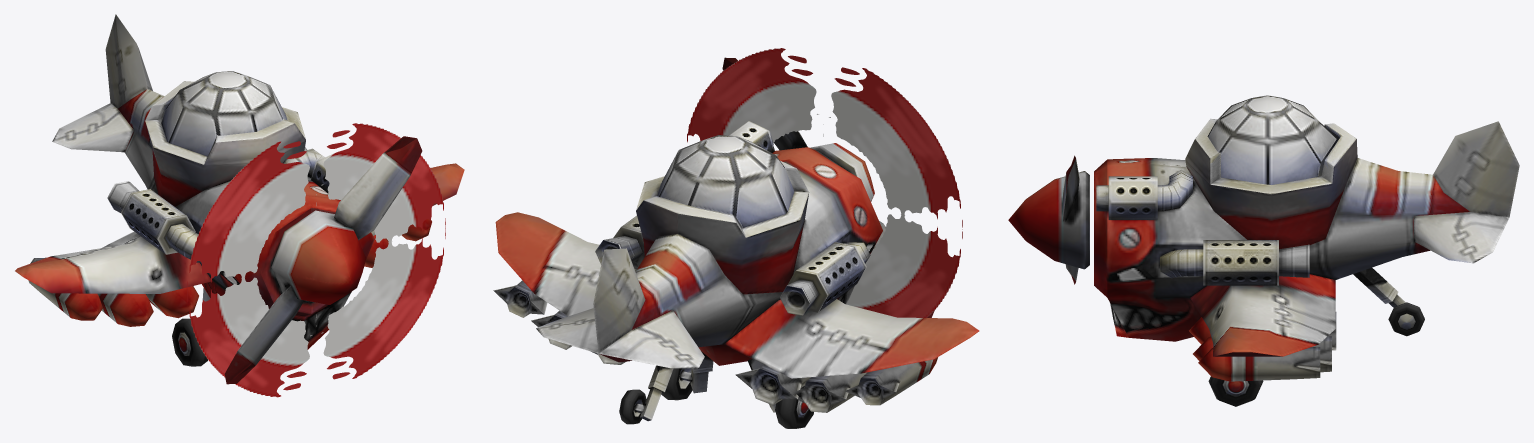
The model's file is microplane.glb.
3 renders of one model, left to right at view 1: azimuth 30°, elevation 25°; view 2: azimuth 150°, elevation 25°; view 3: azimuth 270°, elevation 25°, orthographic. The views are drawn at different scales.
Parts seen in each view (by area): view 1: body, motionblurr, propeller, roof, bomb02, bomb01, wheels, bomb03; view 2: body, motionblurr, roof, wheels, bomb01, propeller, bomb02, bomb03, bomb06; view 3: body, roof, propeller, bomb06, wheels, bomb05, bomb04.
Part boxes in pixels (box(x1,y1,x2,y2)): body: box(15, 14, 464, 349); motionblurr: box(187, 123, 445, 397); propeller: box(224, 136, 422, 384); roof: box(161, 71, 286, 156); bomb02: box(97, 293, 153, 326); bomb01: box(28, 257, 102, 320); wheels: box(172, 288, 210, 366); bomb03: box(146, 286, 198, 318); body: box(495, 121, 979, 378); motionblurr: box(687, 48, 962, 317); roof: box(657, 135, 794, 227); wheels: box(619, 351, 813, 428); bomb01: box(845, 357, 937, 405); propeller: box(722, 57, 934, 317); bomb02: box(794, 372, 866, 412); bomb03: box(735, 365, 810, 405); bomb06: box(493, 280, 547, 317); body: box(1094, 118, 1519, 356); roof: box(1207, 95, 1336, 184); propeller: box(1008, 155, 1089, 284); bomb06: box(1198, 347, 1320, 381); wheels: box(1208, 267, 1424, 406); bomb05: box(1193, 336, 1331, 372); bomb04: box(1189, 312, 1336, 350).
Bounding box in the file's own units: 3.81 × 2.36 × 3.7.
1 material, 1 textured.
